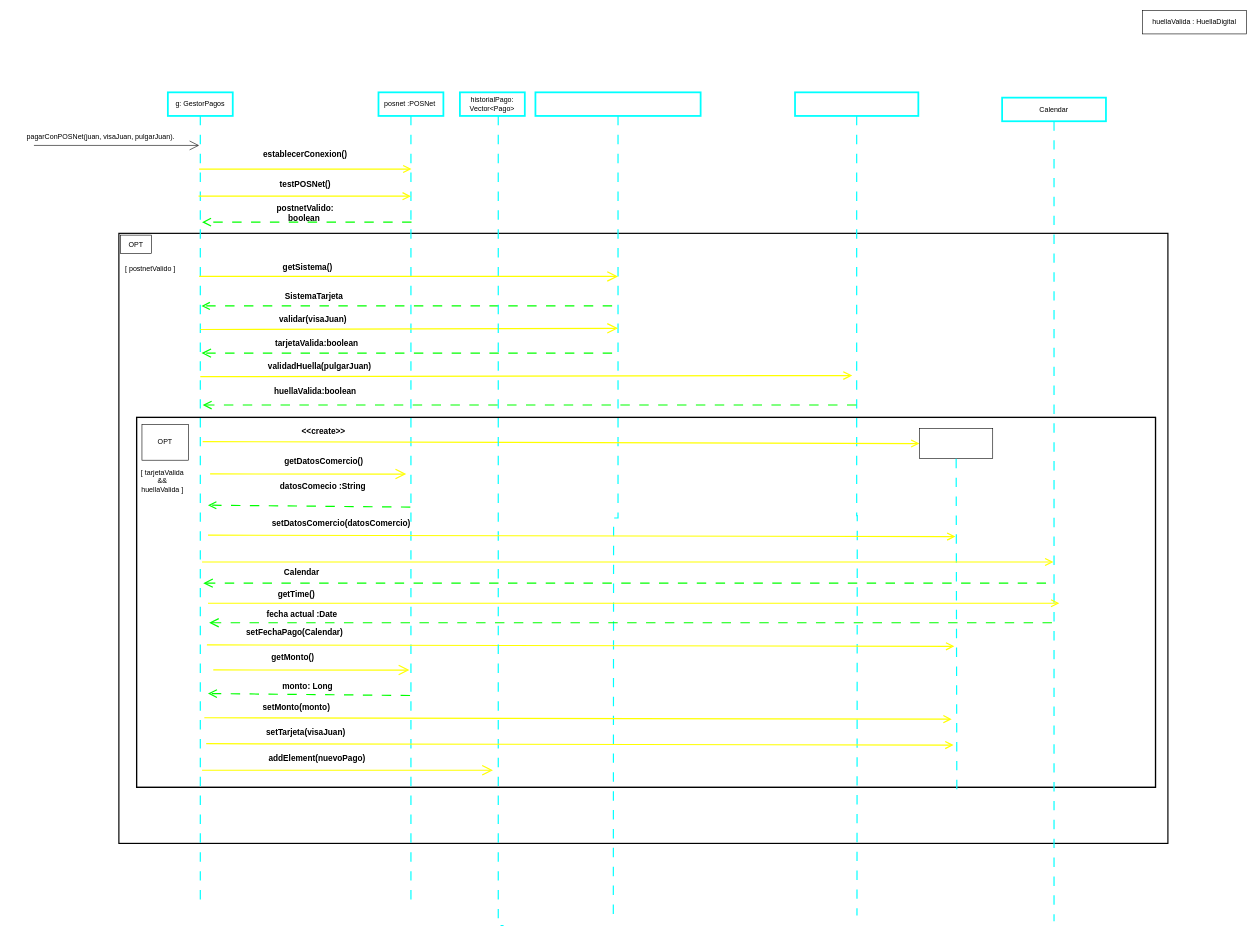
Some shapes in this 1257 by 937 pixel diagram are drawn without their labels. The centre of each missing label's shape, as x and y in pixels:
nuevoPago:Pago: point (956, 443)
terjetaSeleccionada:TaerjetaDeCredito: point (617, 104)
usuario:Usuario: point (856, 104)
